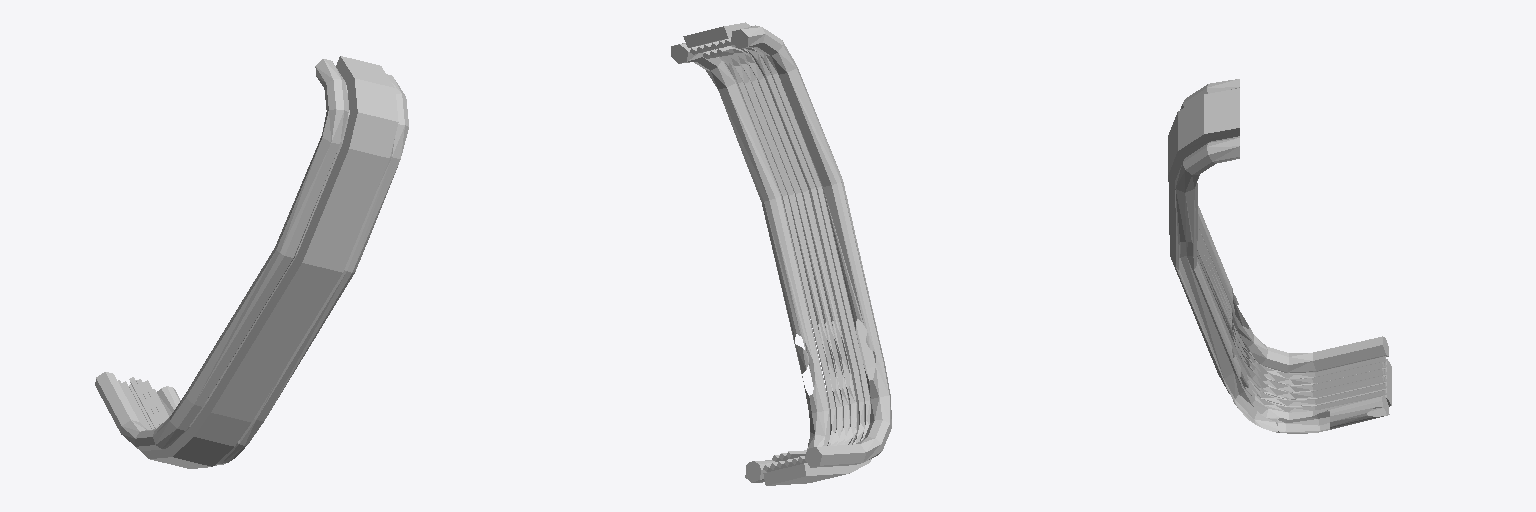
File: elbow1_right_1.obj
The picture shows the model from 3 angles: view 1: azimuth 30°, elevation 25°; view 2: azimuth 150°, elevation 25°; view 3: azimuth 270°, elevation 25°; orthographic projection.
Bounding box in the file's own units: 0.0365 × 0.0596 × 0.0301.